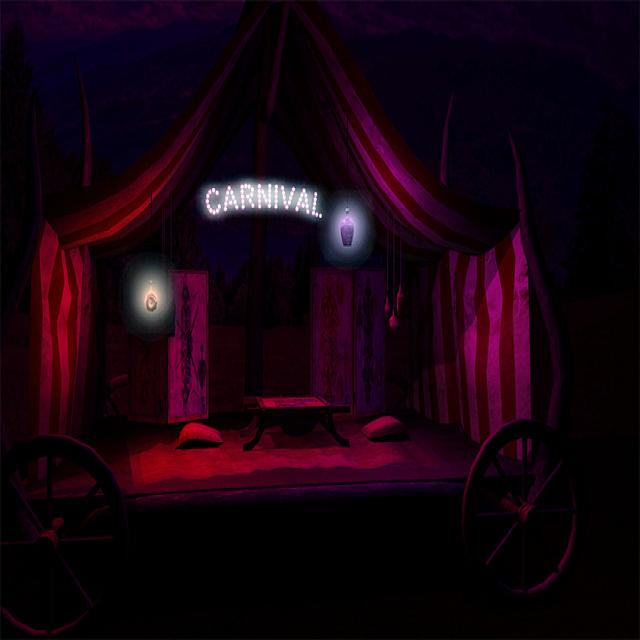Table: (224, 378, 348, 495)
